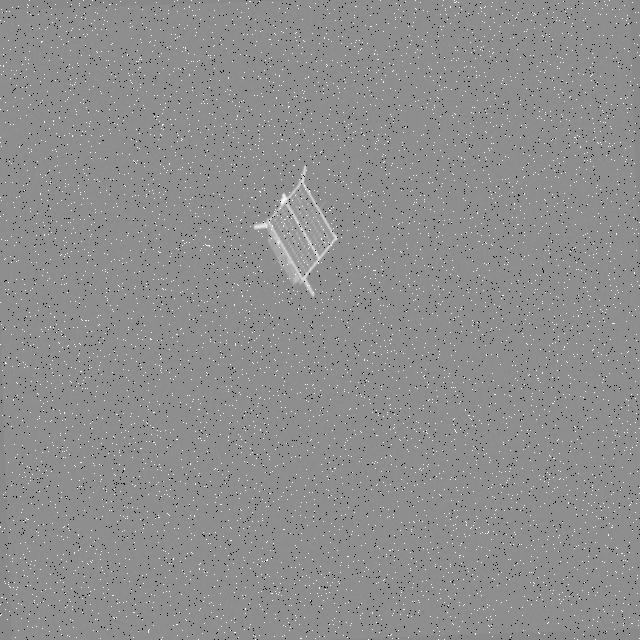medium_debris: (250, 162, 342, 306)
